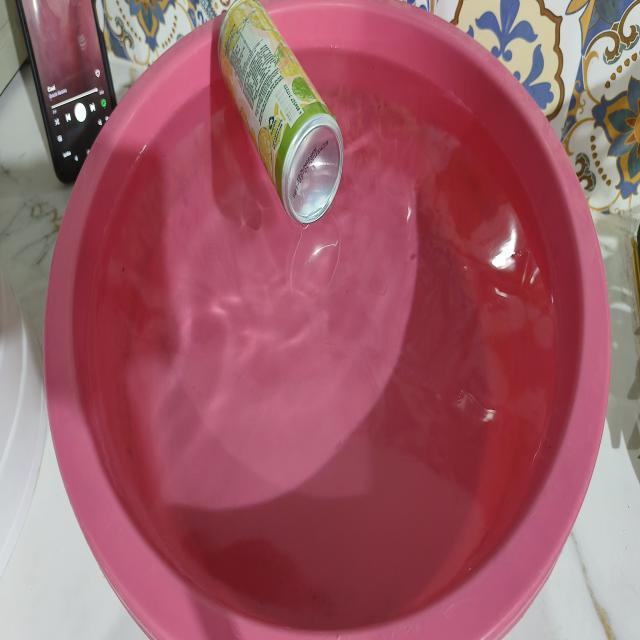Aluminum Can: (219, 0, 343, 222)
